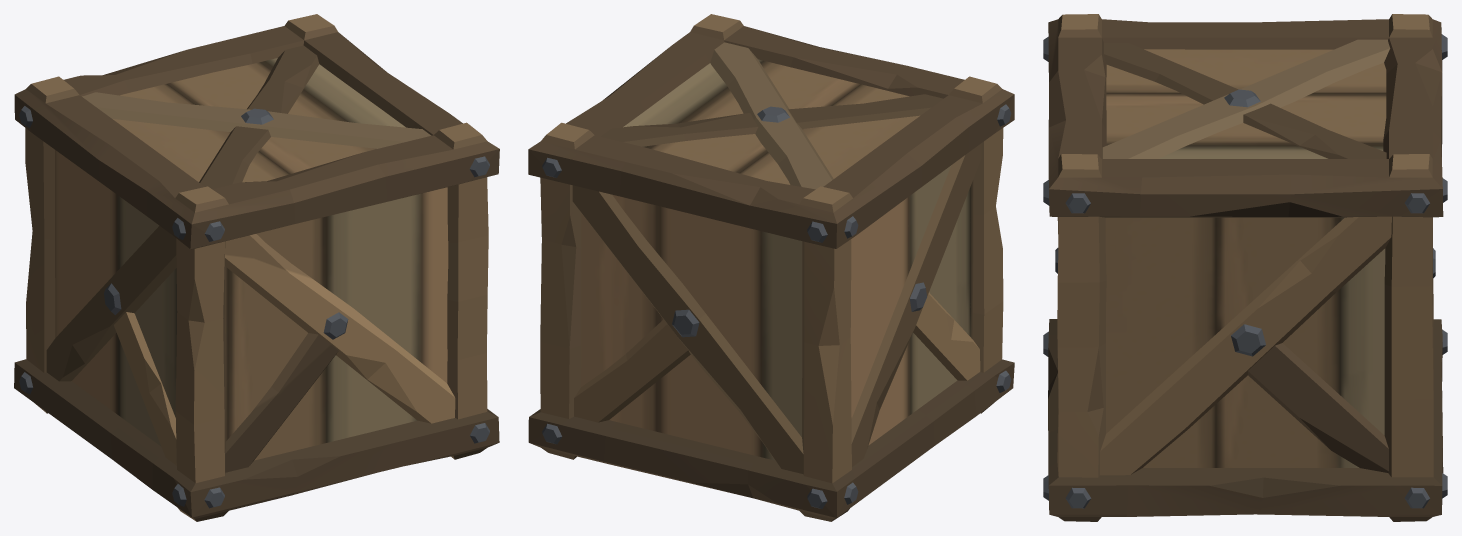
Rendered from SM_Prop_Crate_01.fbx.
3 views of the same model, side by side, from view 1: azimuth 30°, elevation 25°; view 2: azimuth 150°, elevation 25°; view 3: azimuth 270°, elevation 25° (orthographic). The views are drawn at different scales.
Visible parts, largest first — view 1: SM_Prop_Crate_01; view 2: SM_Prop_Crate_01; view 3: SM_Prop_Crate_01.
Part boxes in pixels (x1=…): SM_Prop_Crate_01: x1=14, y1=14, x2=499, y2=521; SM_Prop_Crate_01: x1=528, y1=14, x2=1014, y2=521; SM_Prop_Crate_01: x1=1043, y1=14, x2=1447, y2=521.
Size of the model in its own units: 70.25 by 67.64 by 70.25.
